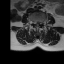CCS_severe_stenosis: (36, 21, 38, 27)
LFS_normal: (40, 20, 42, 26)
LLS_severe_stenosis: (38, 21, 40, 26)
RFS_normal: (32, 20, 34, 25)
RLS_normal: (35, 20, 36, 25)
